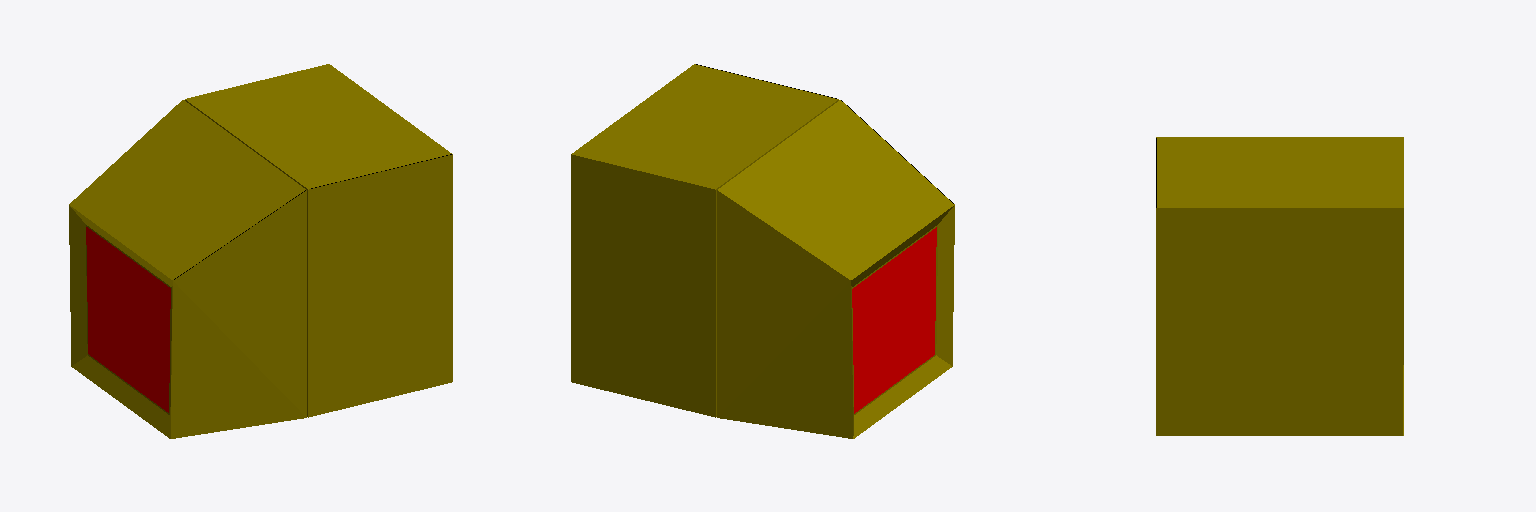
3 renders of one model, left to right at view 1: azimuth 30°, elevation 25°; view 2: azimuth 150°, elevation 25°; view 3: azimuth 270°, elevation 25°, orthographic.
Visible parts, largest first — view 1: Head; view 2: Head; view 3: Head.
Boxes of the visible parts, box(x1,y1,x2,y2) form: Head: box(69, 64, 452, 438); Head: box(571, 64, 954, 438); Head: box(1156, 137, 1403, 435).
Size of the model in its own units: 0.4234 by 0.3416 by 0.3359.
1 materials, 1 textured.